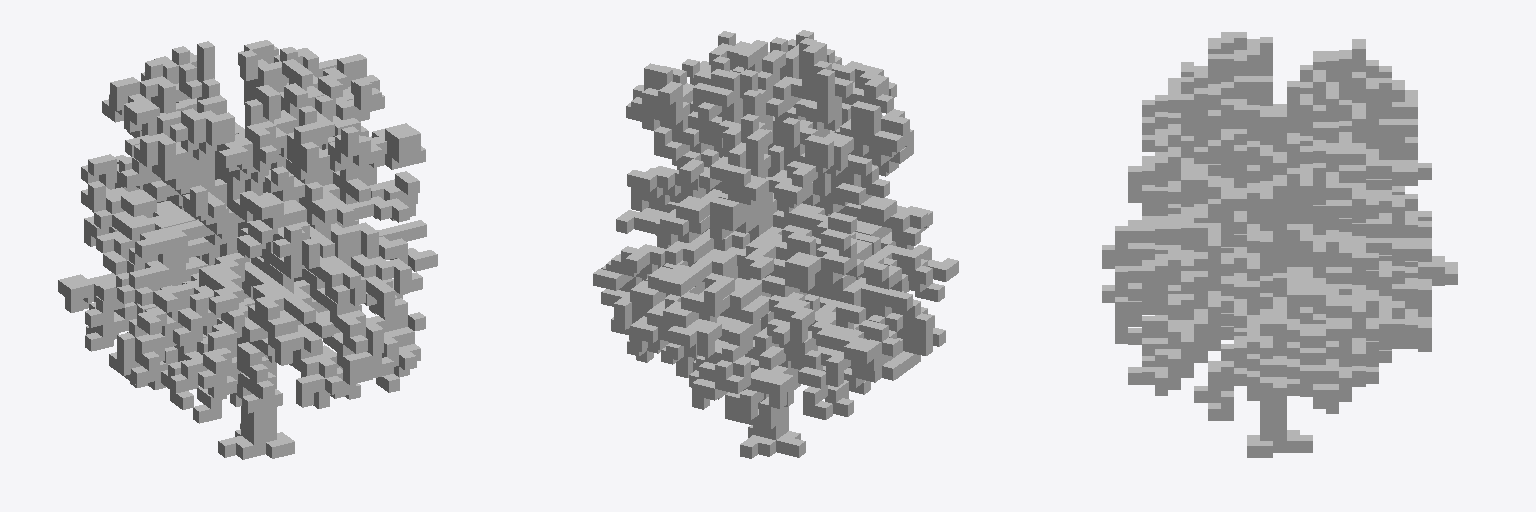
File: Sunkeny City -  Voxel Desert-15-tree.obj
3 views of the same model, side by side, from view 1: azimuth 30°, elevation 25°; view 2: azimuth 150°, elevation 25°; view 3: azimuth 270°, elevation 25° (orthographic).
Visible parts, largest first — view 1: tree; view 2: tree; view 3: tree.
Boxes of the visible parts, x1=… form: tree: x1=58, y1=40, x2=437, y2=459; tree: x1=593, y1=30, x2=958, y2=458; tree: x1=1102, y1=32, x2=1457, y2=457.
Size of the model in its own units: 2.6 by 3.2 by 2.7.